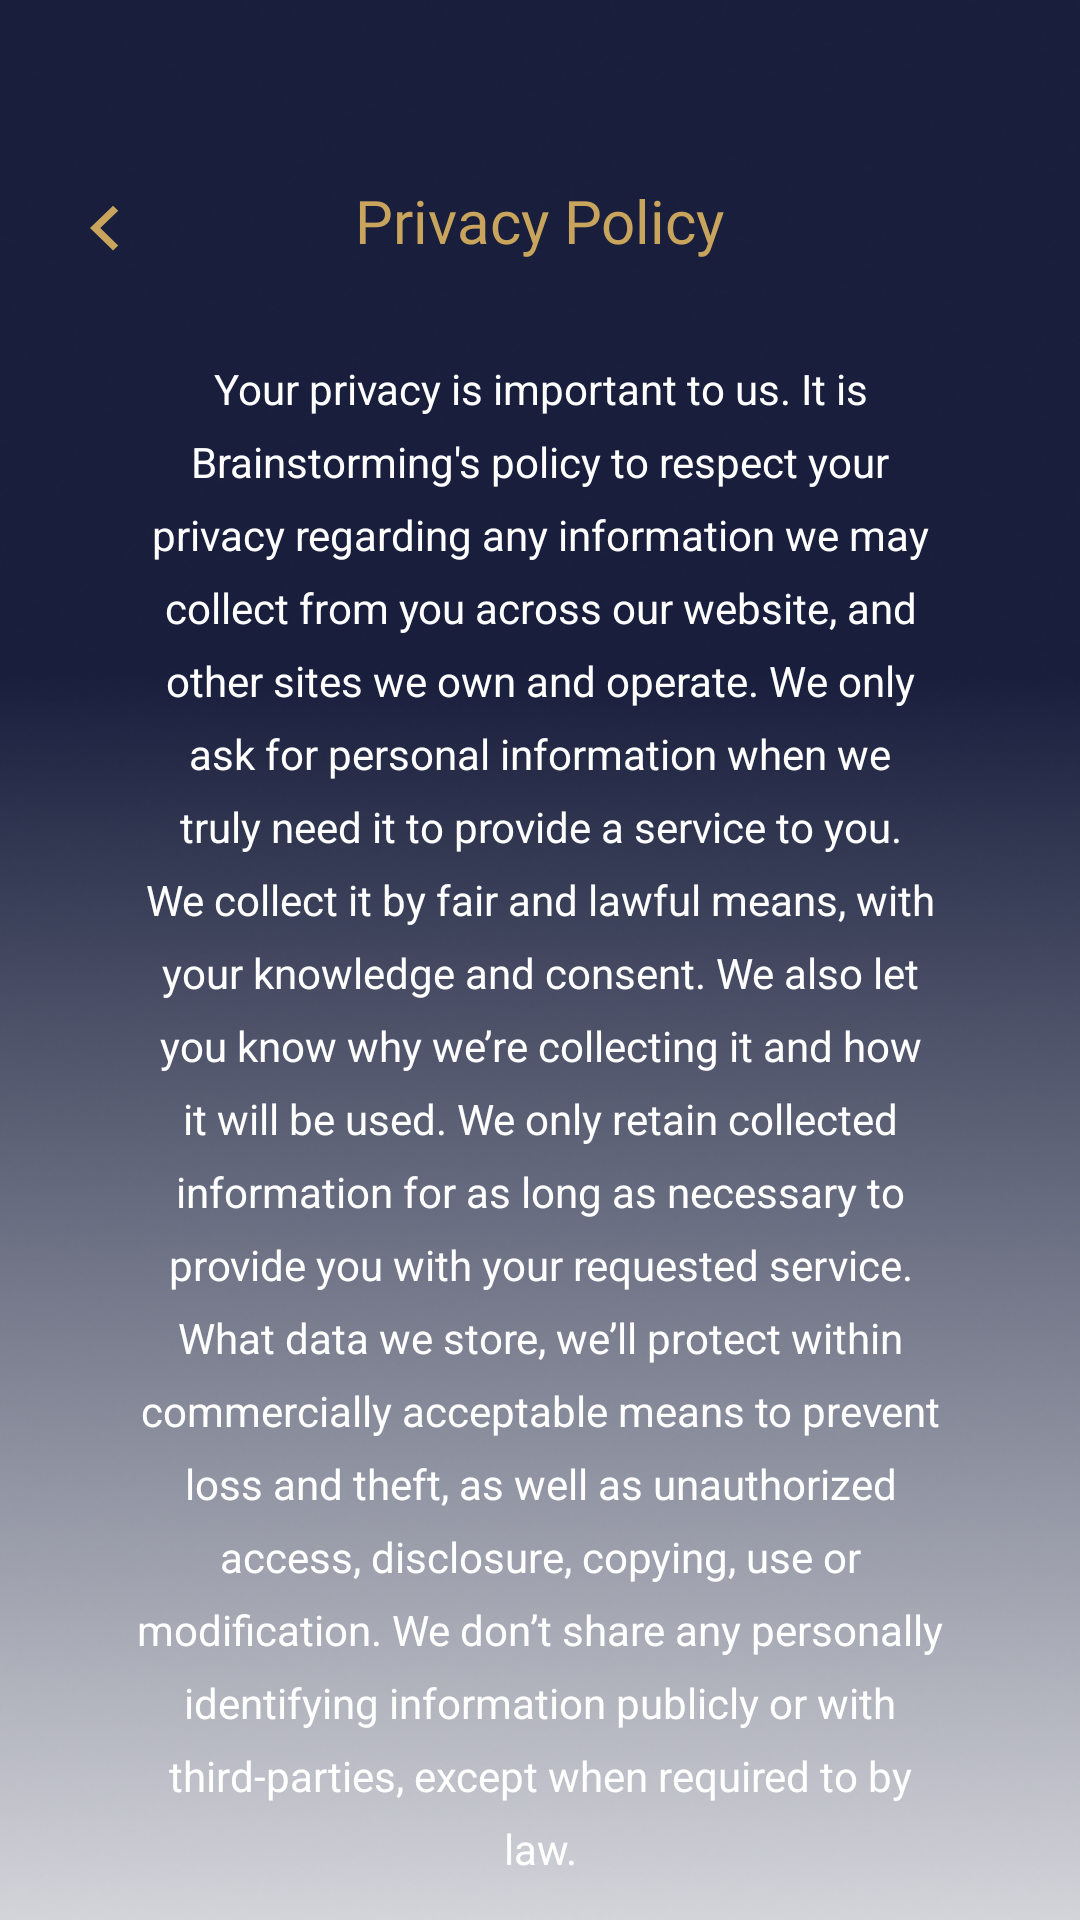

Screen size 1080×1920. Icon name, then its center in pixels as (x=x, y=y):
back: (x=104, y=228)
